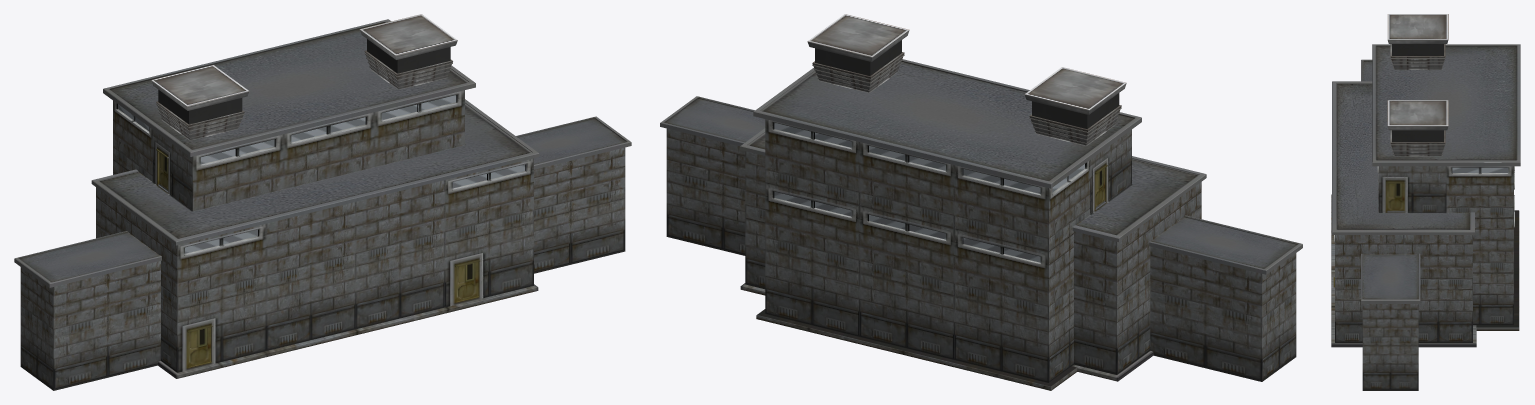
File: s_admin_core_cad.glb
3 renders of one model, left to right at view 1: azimuth 30°, elevation 25°; view 2: azimuth 150°, elevation 25°; view 3: azimuth 270°, elevation 25°, orthographic. The views are drawn at different scales.
Visible parts, largest first — view 1: S_admin_Core; view 2: S_admin_Core; view 3: S_admin_Core.
Boxes of the visible parts, <box> form: S_admin_Core: <box>14,14,631,390</box>; S_admin_Core: <box>660,14,1302,390</box>; S_admin_Core: <box>1331,14,1520,390</box>.
Size of the model in its own units: 57.41 by 22.41 by 19.08.
1 material, 1 textured.
